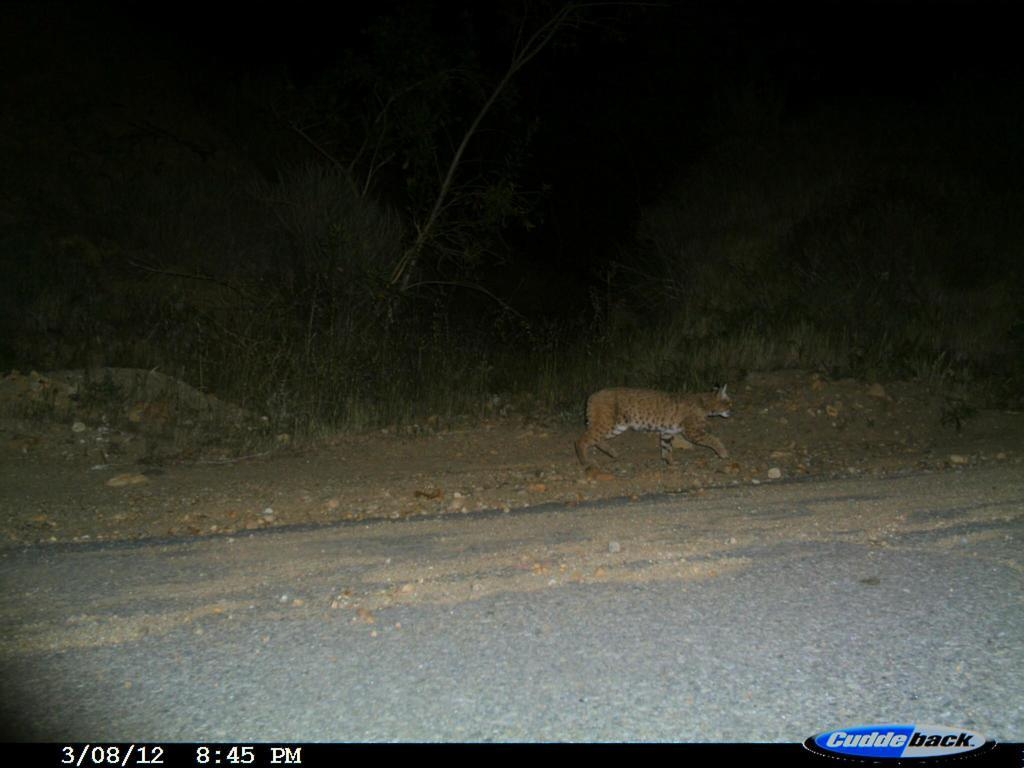bobcat: (562, 359, 748, 484)
